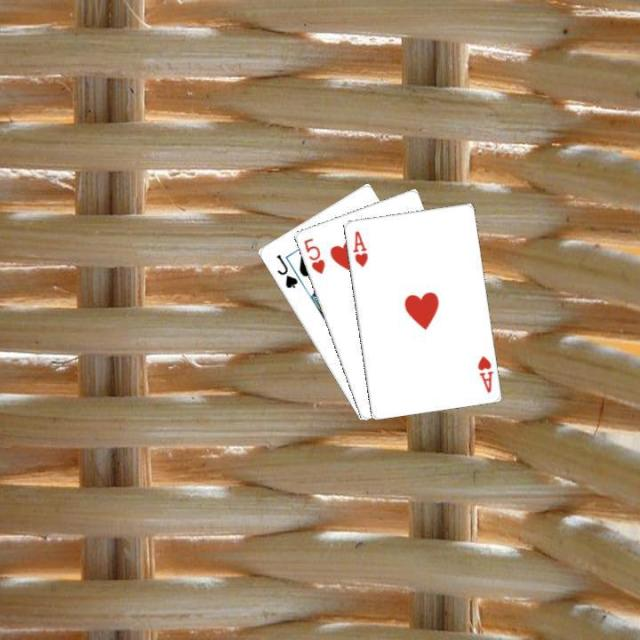5H: (300, 233, 326, 276)
AH: (473, 352, 494, 395), (348, 226, 369, 268)
JS: (272, 250, 300, 290)
